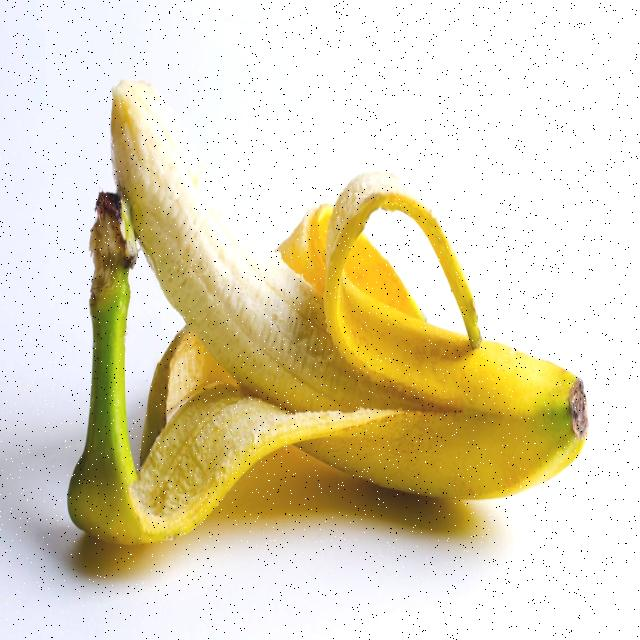Banana: (63, 48, 601, 538)
